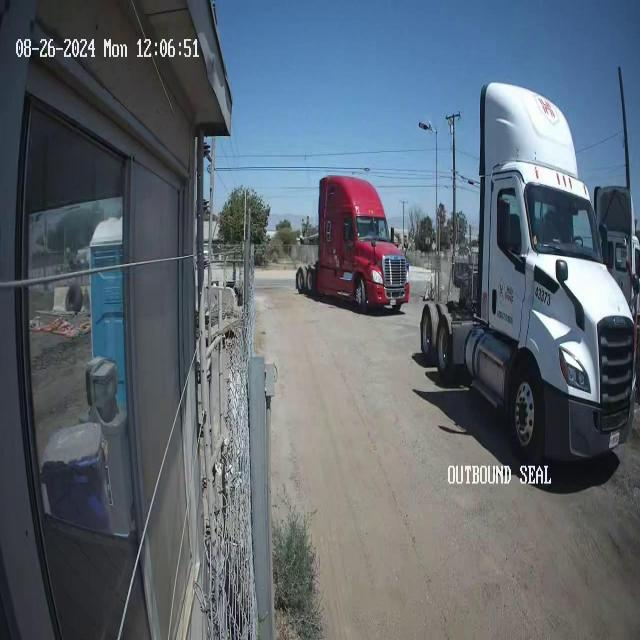BOBTAIL: (420, 80, 640, 463), (295, 173, 410, 315)
